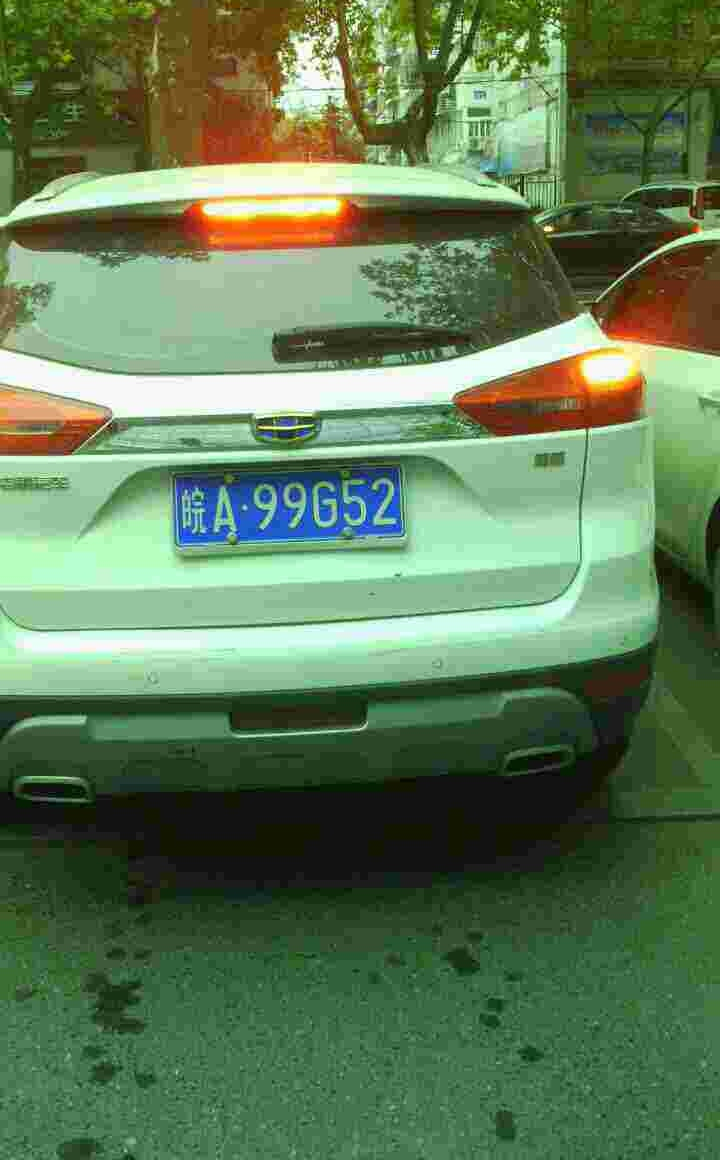license_plate: (167, 477, 401, 543)
